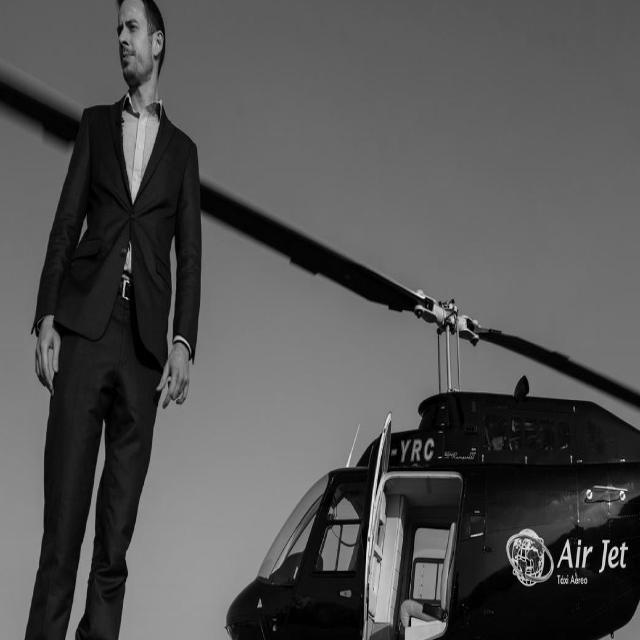helicopter: (1, 50, 640, 640)
